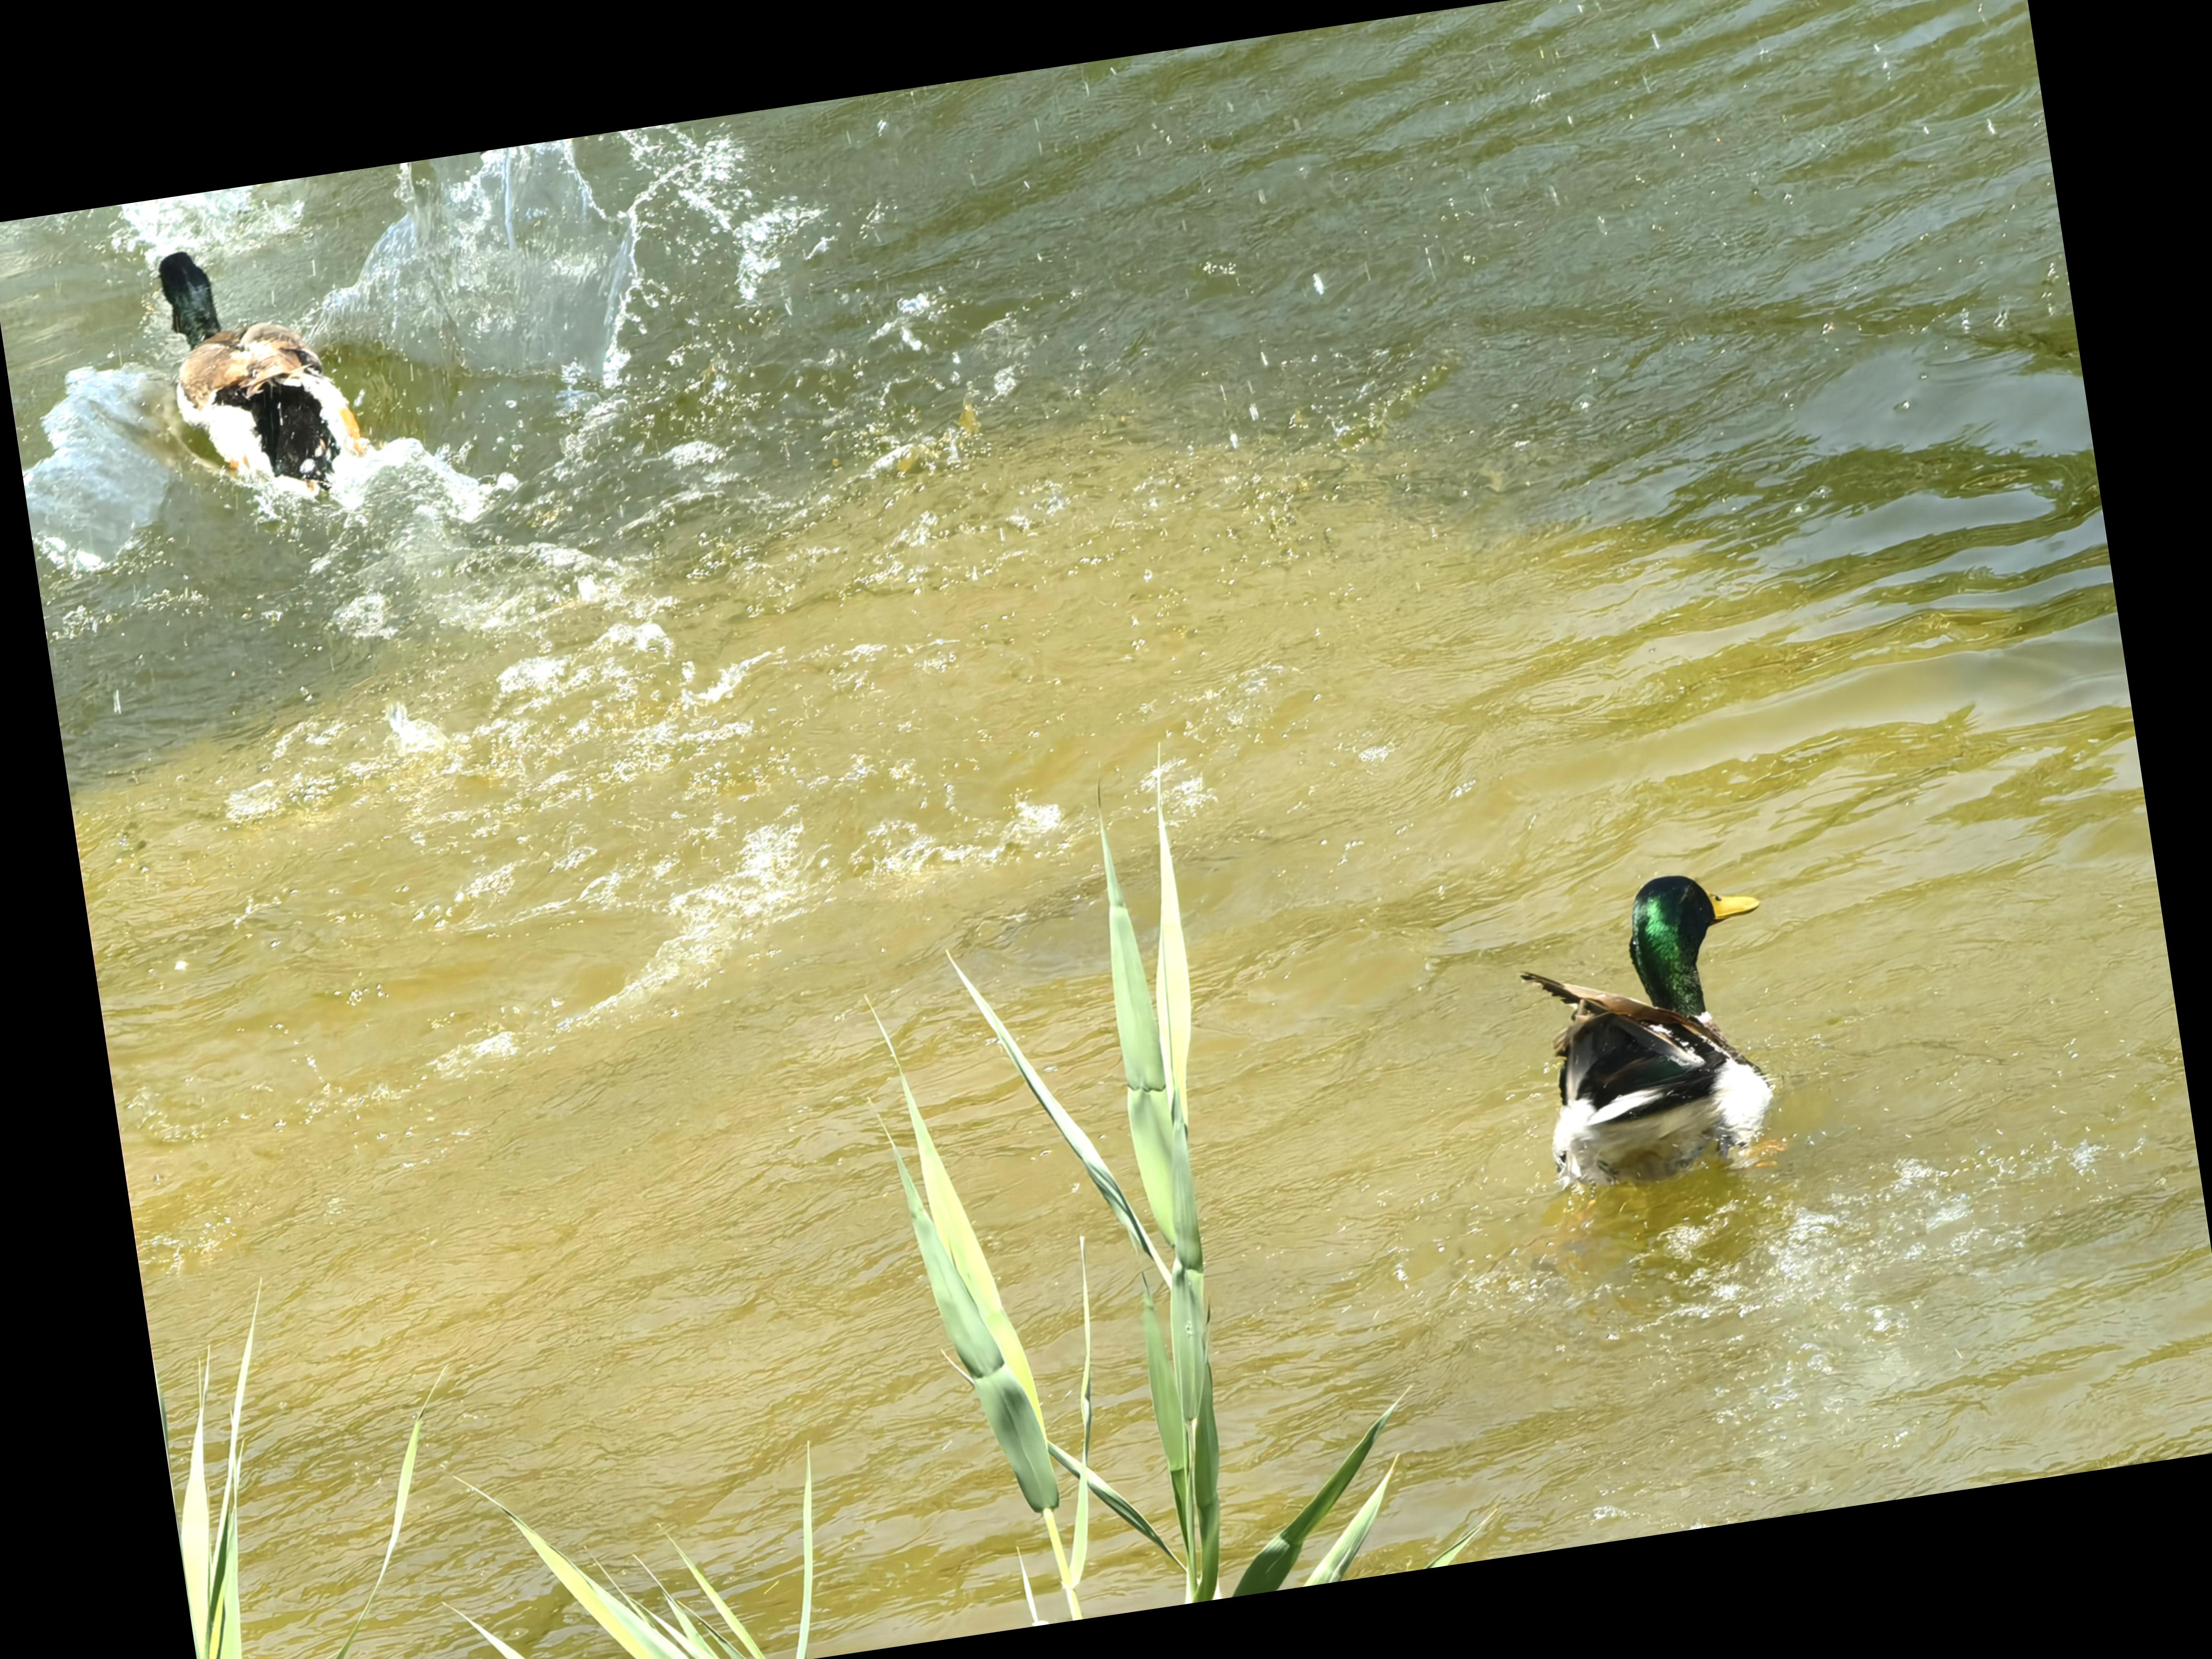duck: (1453, 819, 1857, 1244), (108, 202, 406, 552)
